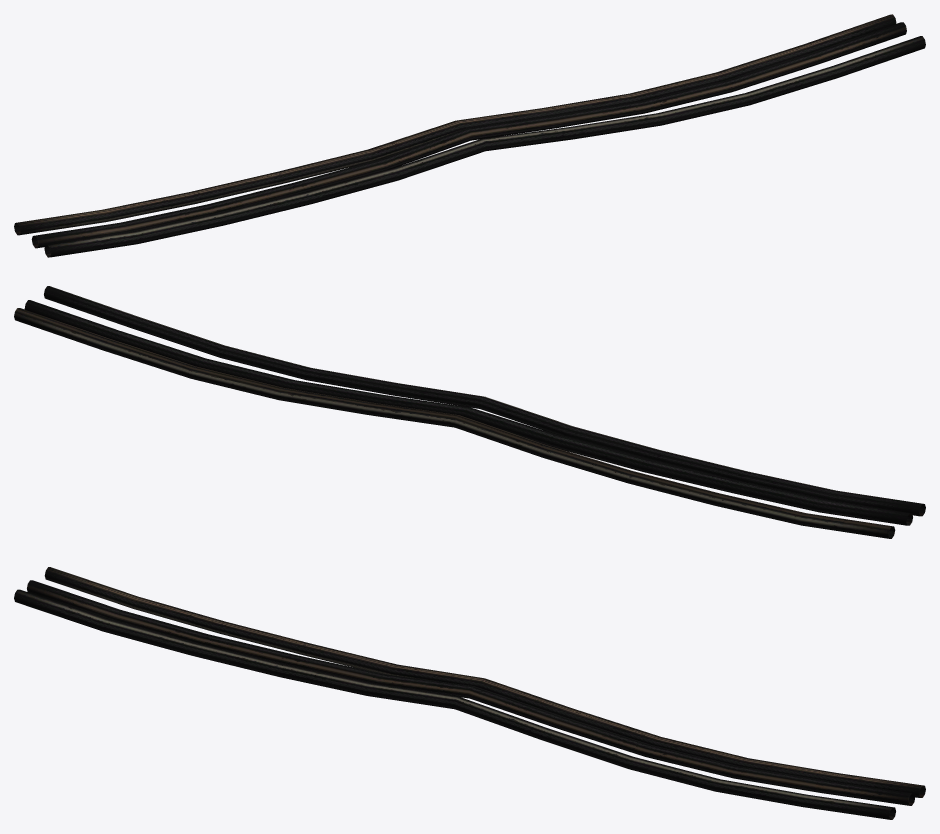
File: cables_wall_bevelled.dae
The picture shows the model from 3 angles, top to bottom: view 1: azimuth 30°, elevation 25°; view 2: azimuth 150°, elevation 25°; view 3: azimuth 330°, elevation 25°; orthographic projection.
Parts seen in each view (by area): view 1: polySurface848; view 2: polySurface848; view 3: polySurface848.
Boxes of the visible parts, bbox=[...] form: polySurface848: bbox=[14, 14, 925, 257]; polySurface848: bbox=[14, 286, 925, 538]; polySurface848: bbox=[14, 567, 925, 819].
Size of the model in its own units: 3.69 by 0.1122 by 0.3057.
